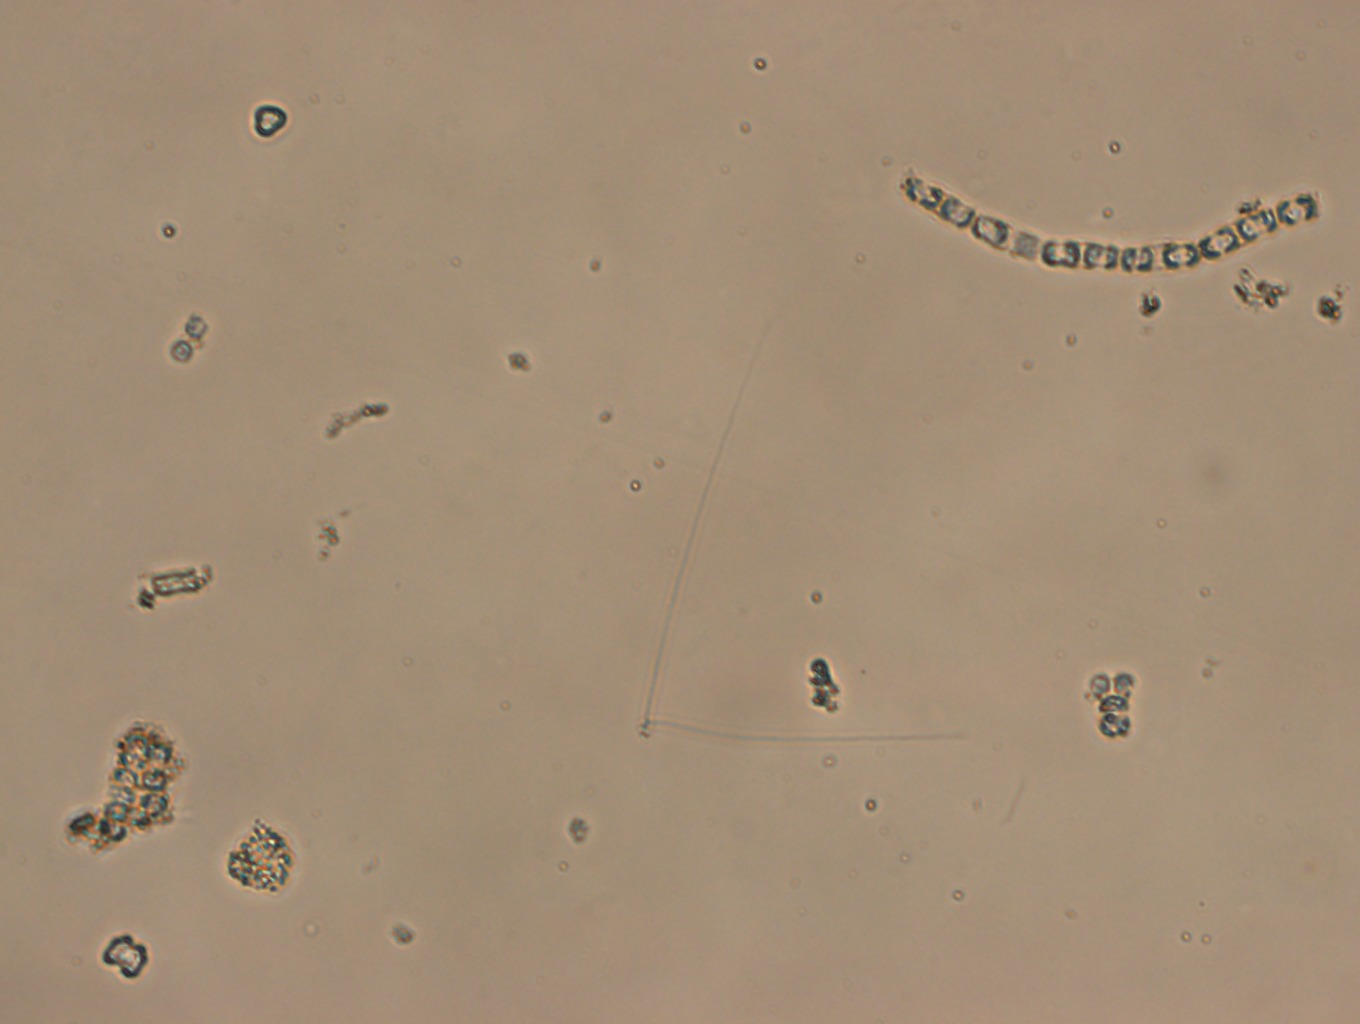skeletonema: (897, 166, 1320, 275)
